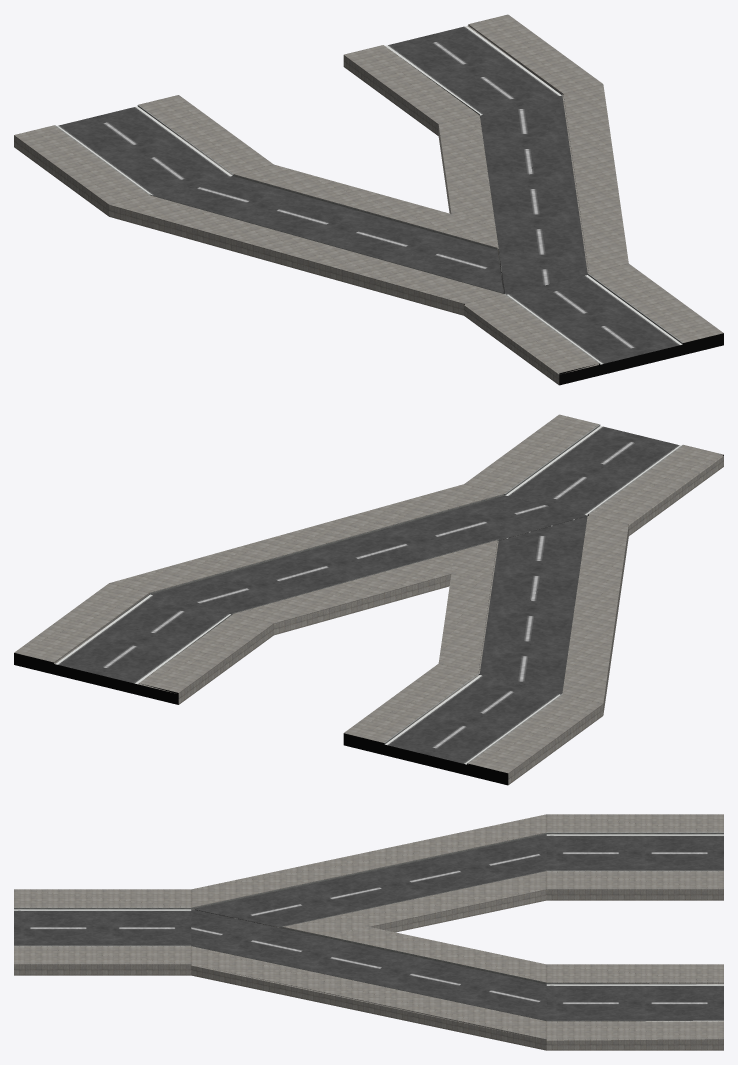
File: SinglDblConnector_1.fbx
3 views of the same model, one above another, from view 1: azimuth 30°, elevation 25°; view 2: azimuth 150°, elevation 25°; view 3: azimuth 270°, elevation 25° (orthographic). The views are drawn at different scales.
Visible parts, largest first — view 1: materialC150, materialA150, materialB150, materialE150, materialD150; view 2: materialC150, materialA150, materialB150, materialE150, materialD150; view 3: materialC150, materialA150, materialE150, materialD150.
Boxes of the visible parts, box(x1,y1,x2,y2) form: materialC150: box(14, 14, 723, 384); materialA150: box(57, 26, 682, 364); materialB150: box(464, 304, 723, 385); materialE150: box(137, 25, 682, 363); materialD150: box(54, 104, 683, 363); materialC150: box(14, 414, 723, 784); materialA150: box(55, 426, 680, 764); materialB150: box(14, 455, 723, 785); materialE150: box(54, 425, 600, 763); materialD150: box(384, 424, 683, 763); materialC150: box(14, 814, 723, 1050); materialA150: box(14, 834, 723, 1021); materialE150: box(14, 833, 723, 1021); materialD150: box(14, 832, 723, 946).
Size of the model in its own units: 76.8 by 1.8 by 102.
